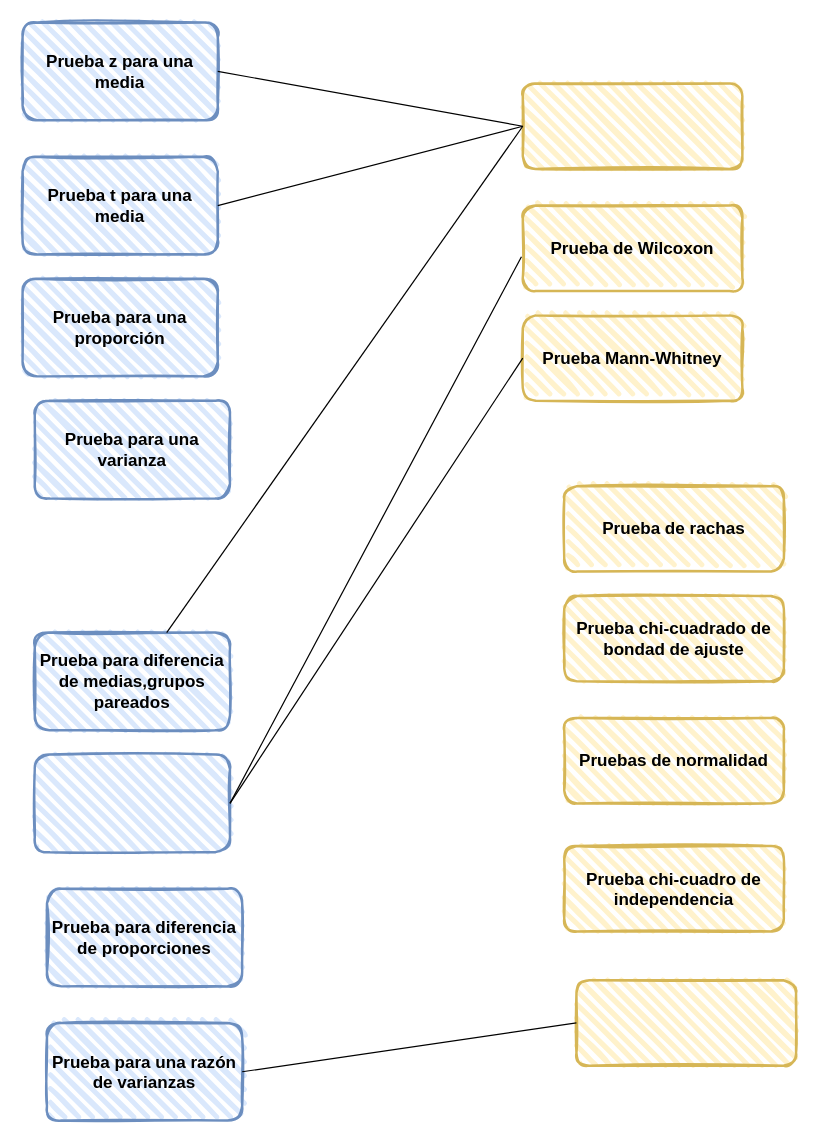
This 817x1142 diagram has some shape labels left out. Here are the shapes that lost their labels. From the top down, the box of each, then its label:
(521, 82, 743, 170): Prueba de signos
(33, 753, 231, 853): Prueba para diferencia de medias grupos independientes
(575, 978, 797, 1066): Pruebas de Kruskal-Wallis
